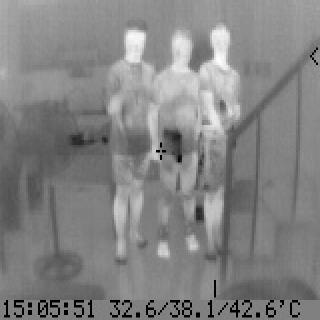Gun: (162, 125, 184, 165)
